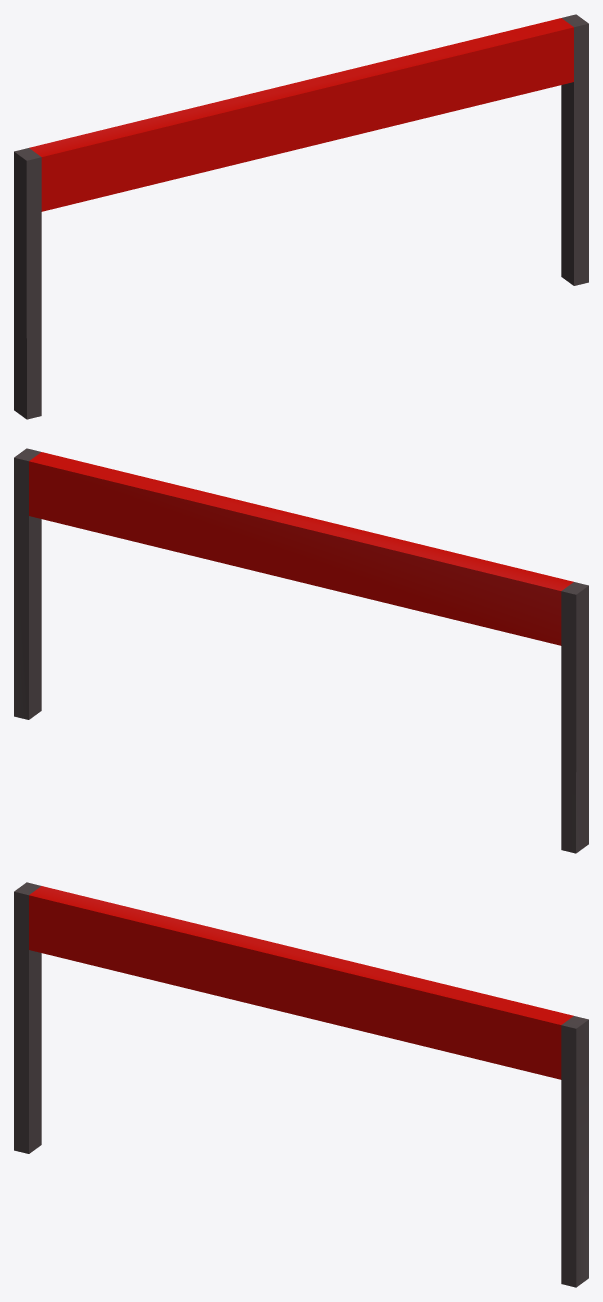
Rendered from chegada.fbx.
The picture shows the model from 3 angles, top to bottom: view 1: azimuth 30°, elevation 25°; view 2: azimuth 150°, elevation 25°; view 3: azimuth 330°, elevation 25°; orthographic projection.
Visible parts, largest first — view 1: Chegada; view 2: Chegada; view 3: Chegada.
Part boxes in pixels (box(x1,y1,x2,y2)): Chegada: box(14, 14, 588, 419); Chegada: box(14, 448, 588, 853); Chegada: box(14, 882, 588, 1287).
Size of the model in its own units: 670 by 295 by 26.31.
